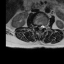CCS_normal: (39, 24, 41, 31)
LFS_normal: (43, 24, 46, 29)
LLS_normal: (41, 23, 43, 30)
RFS_stenosis: (35, 23, 38, 30)
RLS_severe_stenosis: (38, 24, 39, 30)
